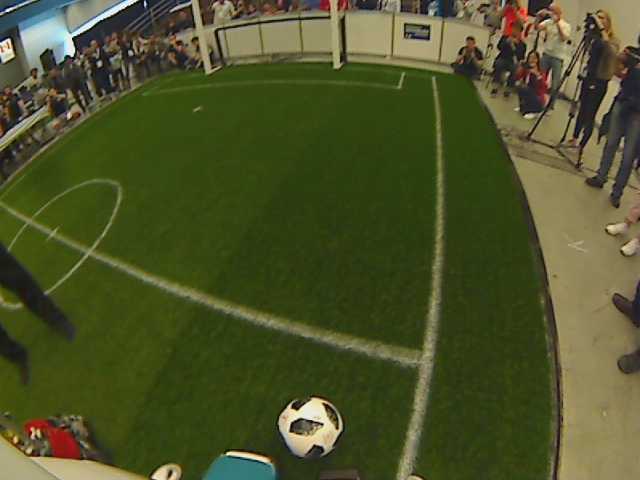ball: (276, 394, 343, 463)
